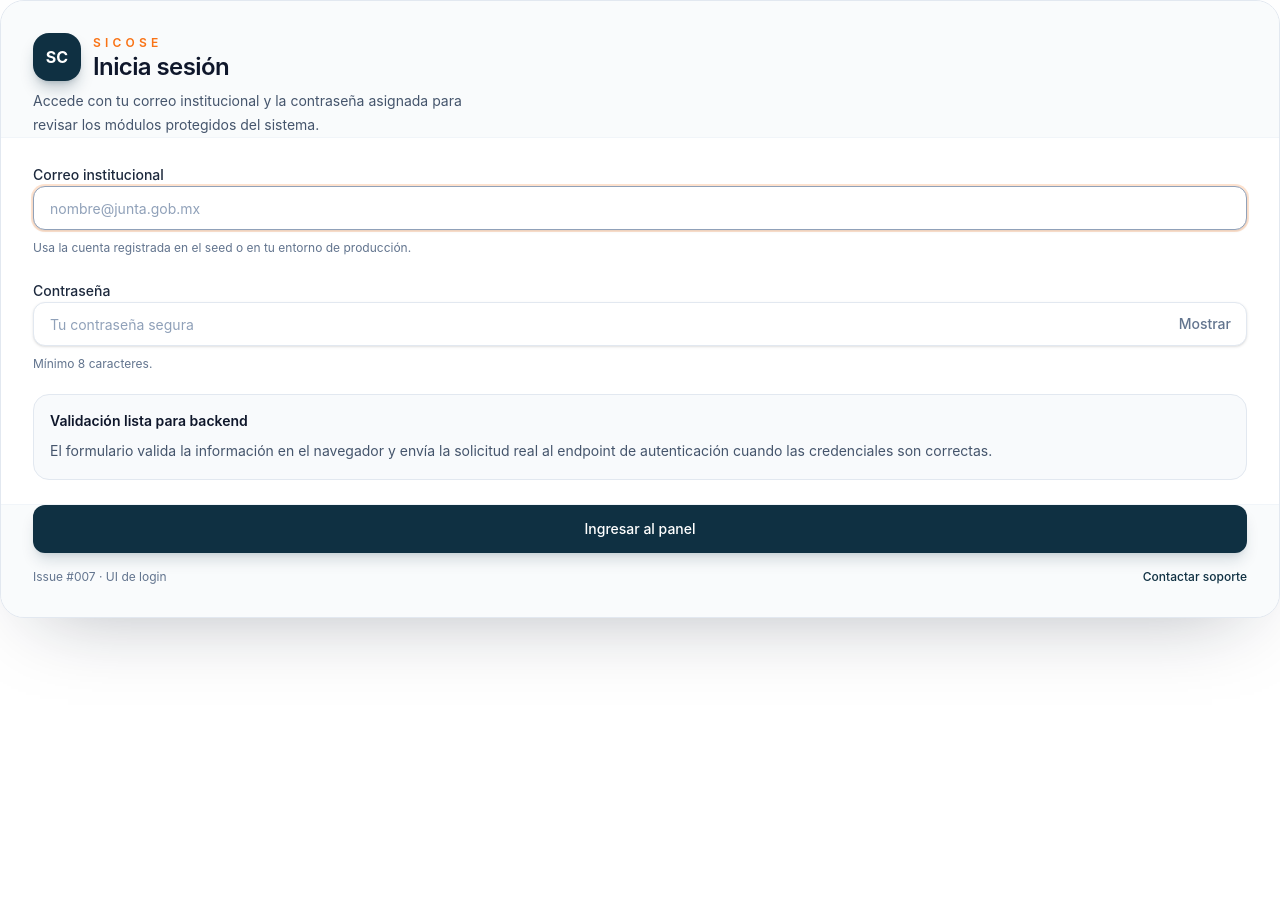
Test: LoginForm › shows validation feedback when the form is submitted empty
Click the button "Ingresar al panel": (640, 529) [33,505,1247,553]
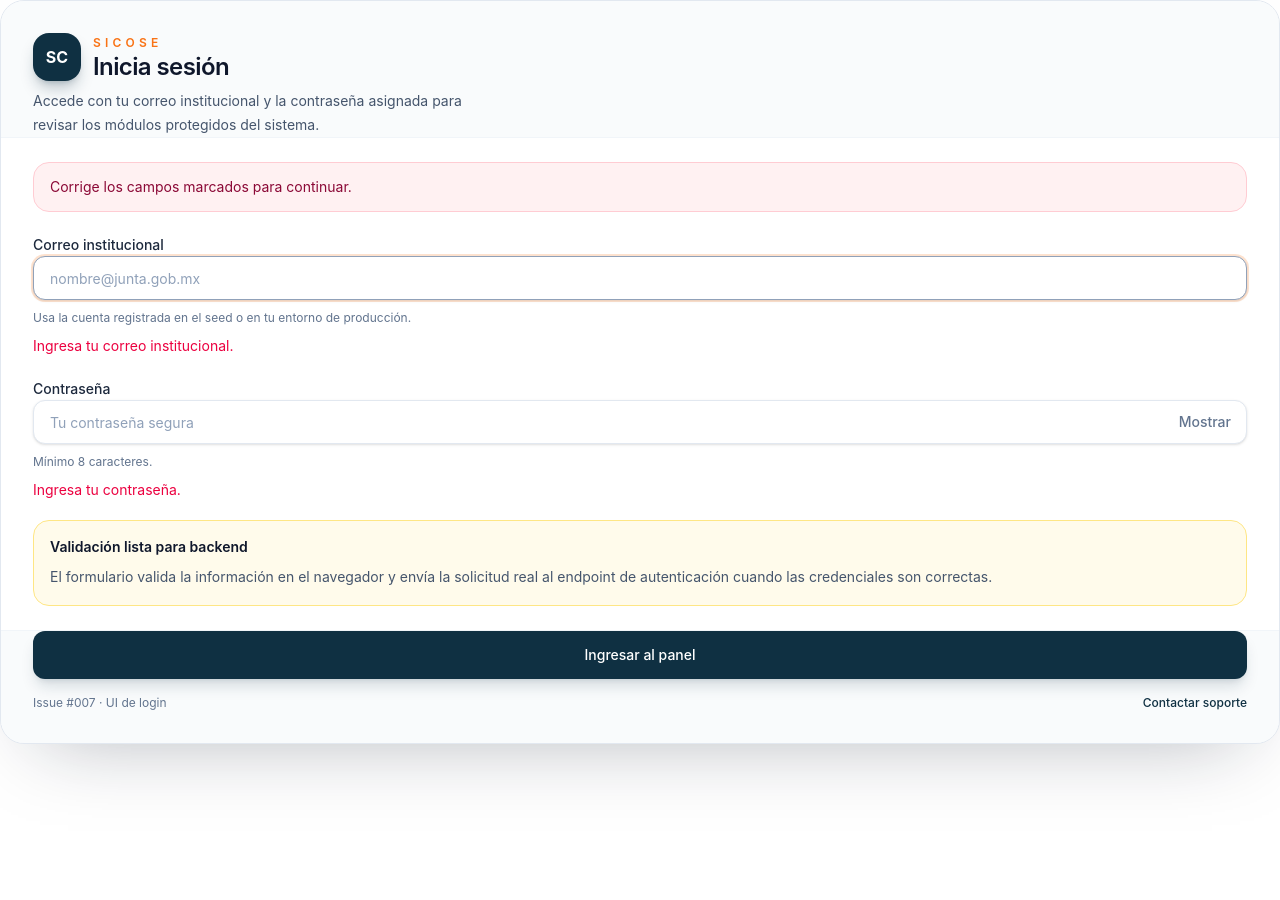
Result: the text "Ingresa tu correo institucional." is shown at [33,337,233,354]
Result: the text "Ingresa tu contraseña." is shown at [33,481,181,498]
Result: the message shows "Corrige los campos marcados" at [50,178,352,195]
